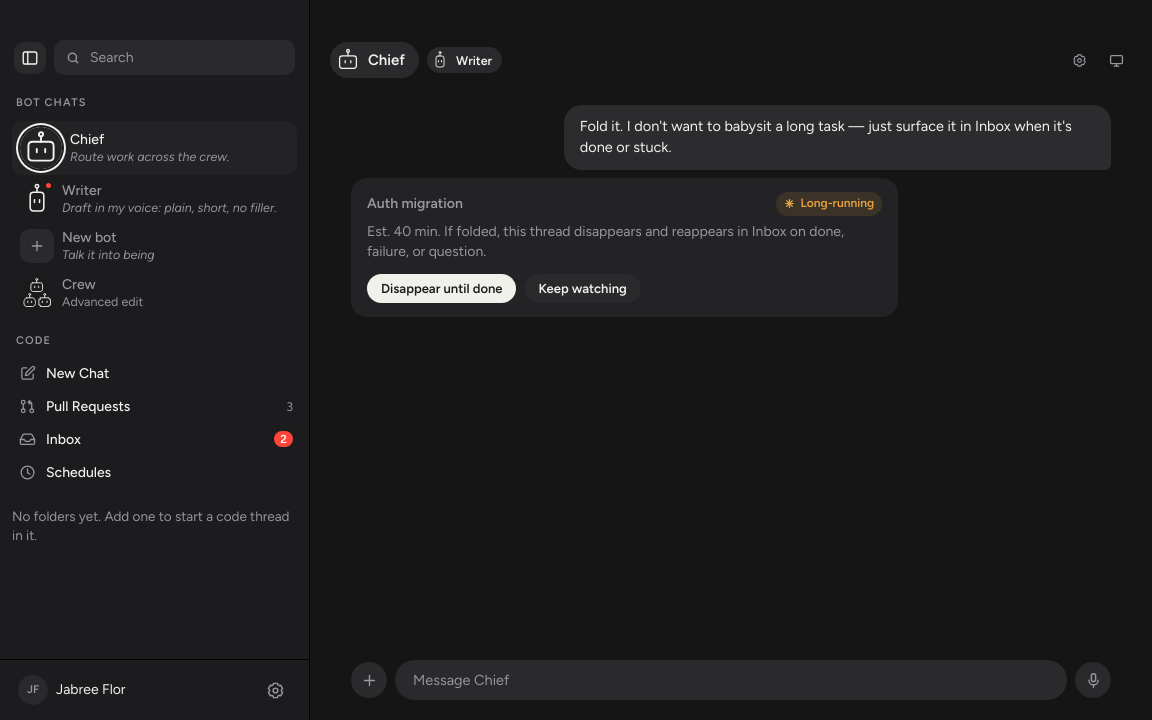
App, once the host has answered with a crew › lights the blob of a bot with cards waiting, and no other
(page scrolled)
Expected: the button named "Settings" is shown, [259,674,291,706]
Click the button "Crew Advanced edit". click: {"x": 79, "y": 285}
box: [12,270,297,316]
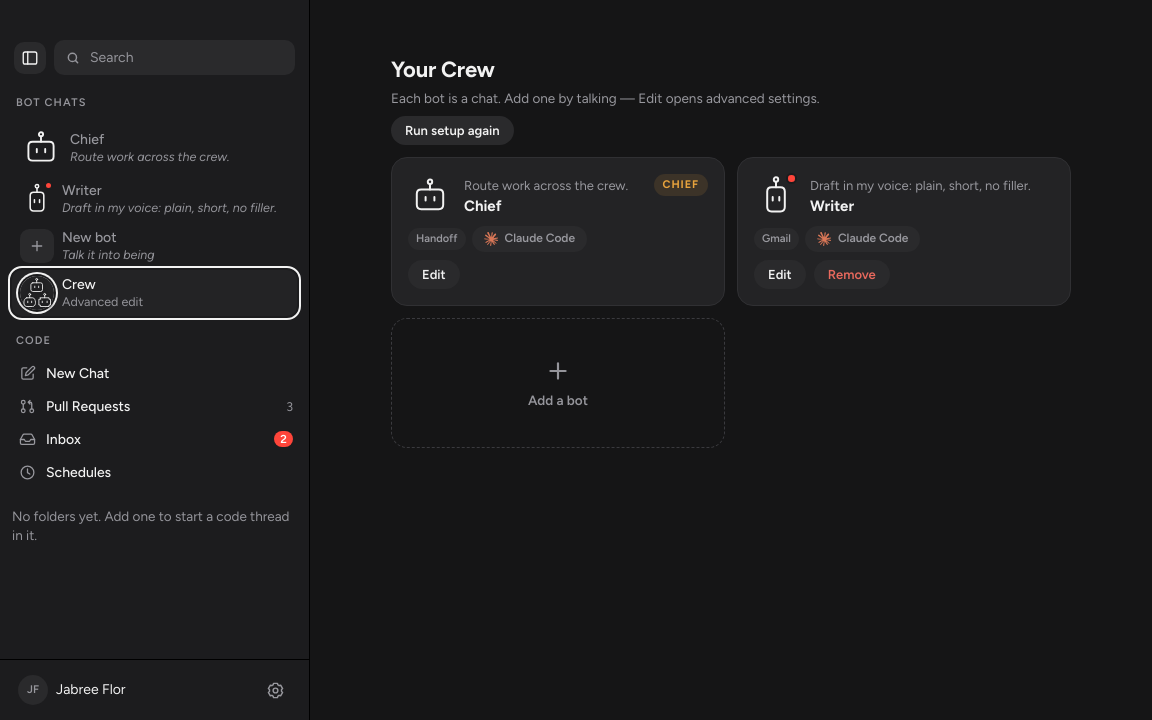
Expected: the text "Writer" is shown, [810,196,854,214]
Expected: the 2nd element with test id "unread-dot" is shown, [786,174,797,184]
